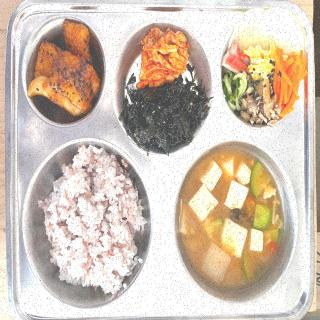Nasi: (41, 148, 147, 301)
